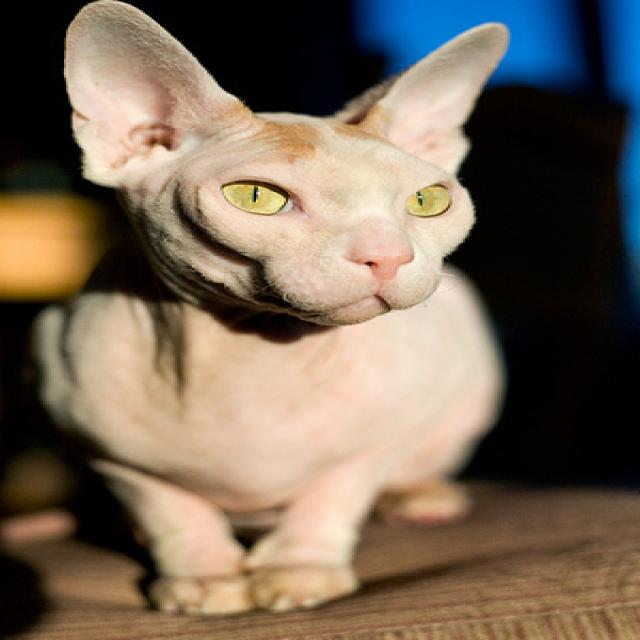Sphynx: (26, 0, 518, 619)
